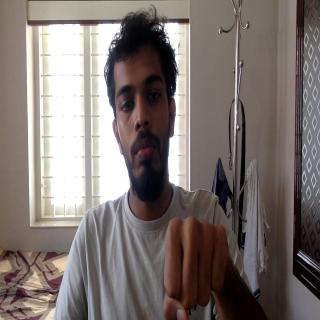Yes: (162, 195, 246, 318)
